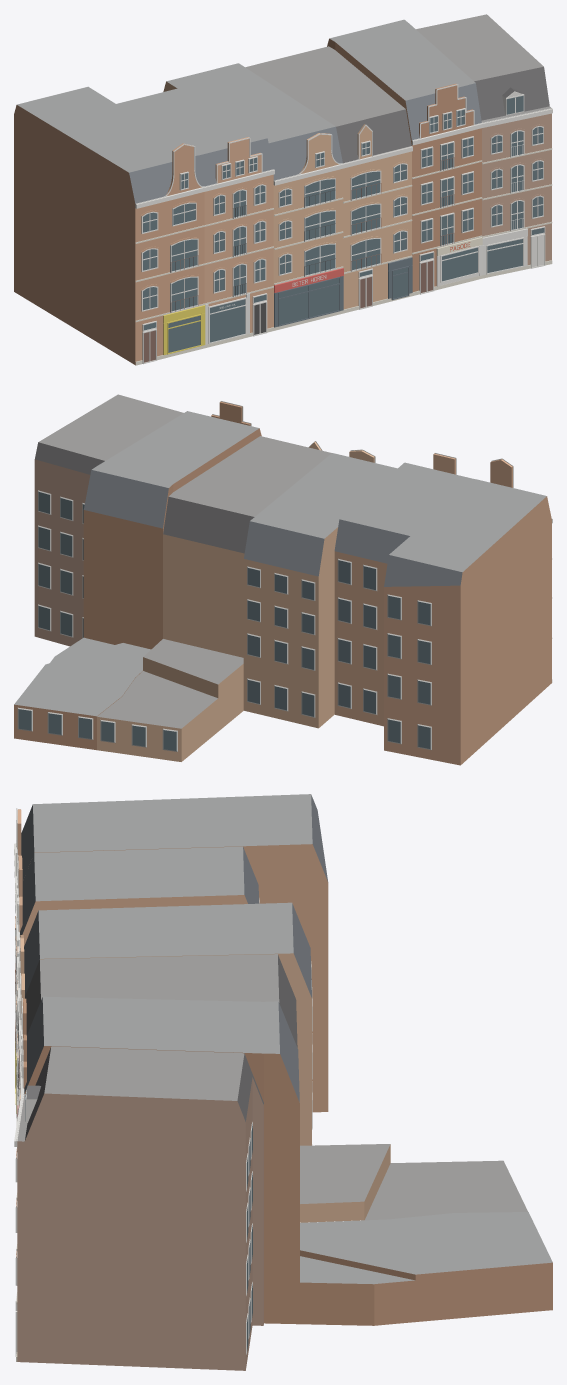
The model's file is chunk-face-bilder-164451-156126.glb.
The picture shows the model from 3 angles, top to bottom: view 1: azimuth 30°, elevation 25°; view 2: azimuth 150°, elevation 25°; view 3: azimuth 270°, elevation 25°; orthographic projection. The views are drawn at different scales.
Visible parts, largest first — view 1: face-bilder-164451-156126; view 2: face-bilder-164451-156126; view 3: face-bilder-164451-156126.
Boxes of the visible parts, bbox=[...] form: face-bilder-164451-156126: bbox=[14, 14, 552, 365]; face-bilder-164451-156126: bbox=[14, 394, 552, 765]; face-bilder-164451-156126: bbox=[14, 794, 552, 1370].
Size of the model in its own units: 39.72 by 17.87 by 29.3.
